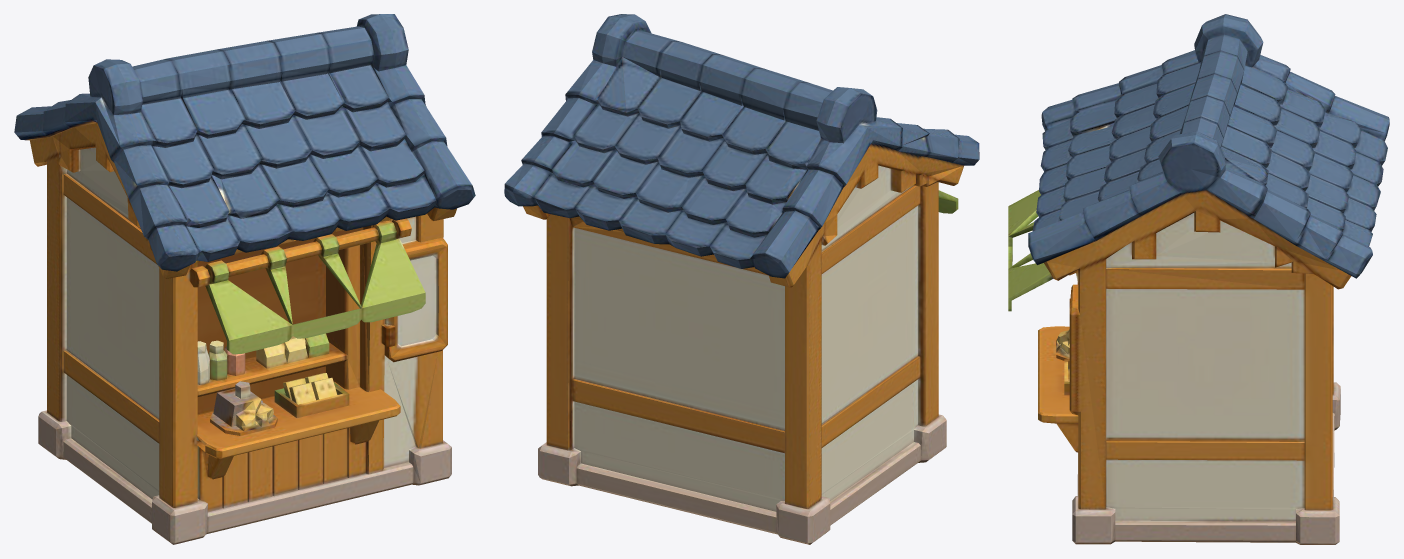
The model's file is kiosk-DdtZmjGJ.glb.
3 views of the same model, side by side, from view 1: azimuth 30°, elevation 25°; view 2: azimuth 150°, elevation 25°; view 3: azimuth 270°, elevation 25° (orthographic). The views are drawn at different scales.
Visible parts, largest first — view 1: tripo_node_f7a444bb-9cdc-4c76-8d88-1bee3caa3754; view 2: tripo_node_f7a444bb-9cdc-4c76-8d88-1bee3caa3754; view 3: tripo_node_f7a444bb-9cdc-4c76-8d88-1bee3caa3754.
Part boxes in pixels (bbox=[...]): tripo_node_f7a444bb-9cdc-4c76-8d88-1bee3caa3754: bbox=[14, 14, 475, 544]; tripo_node_f7a444bb-9cdc-4c76-8d88-1bee3caa3754: bbox=[504, 14, 979, 544]; tripo_node_f7a444bb-9cdc-4c76-8d88-1bee3caa3754: bbox=[1008, 14, 1389, 544].
Bounding box in the file's own units: 0.8054 × 0.9776 × 0.8322.
Materials: 1 (1 with a texture image).
